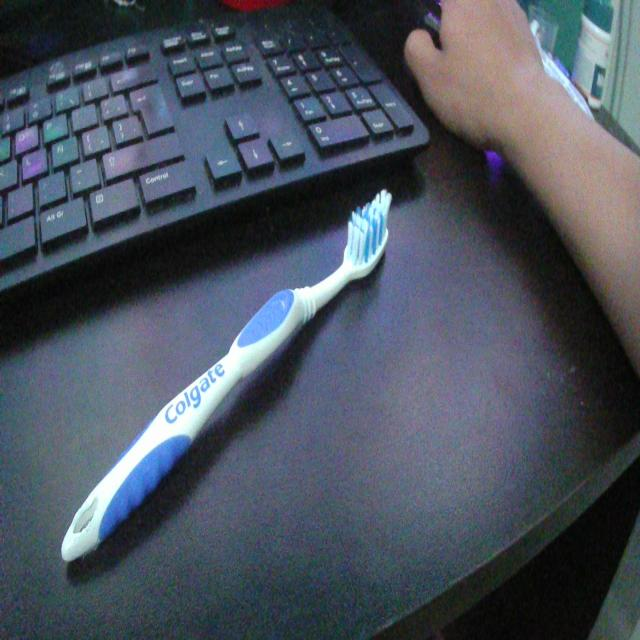Organico: (75, 551, 103, 582)
